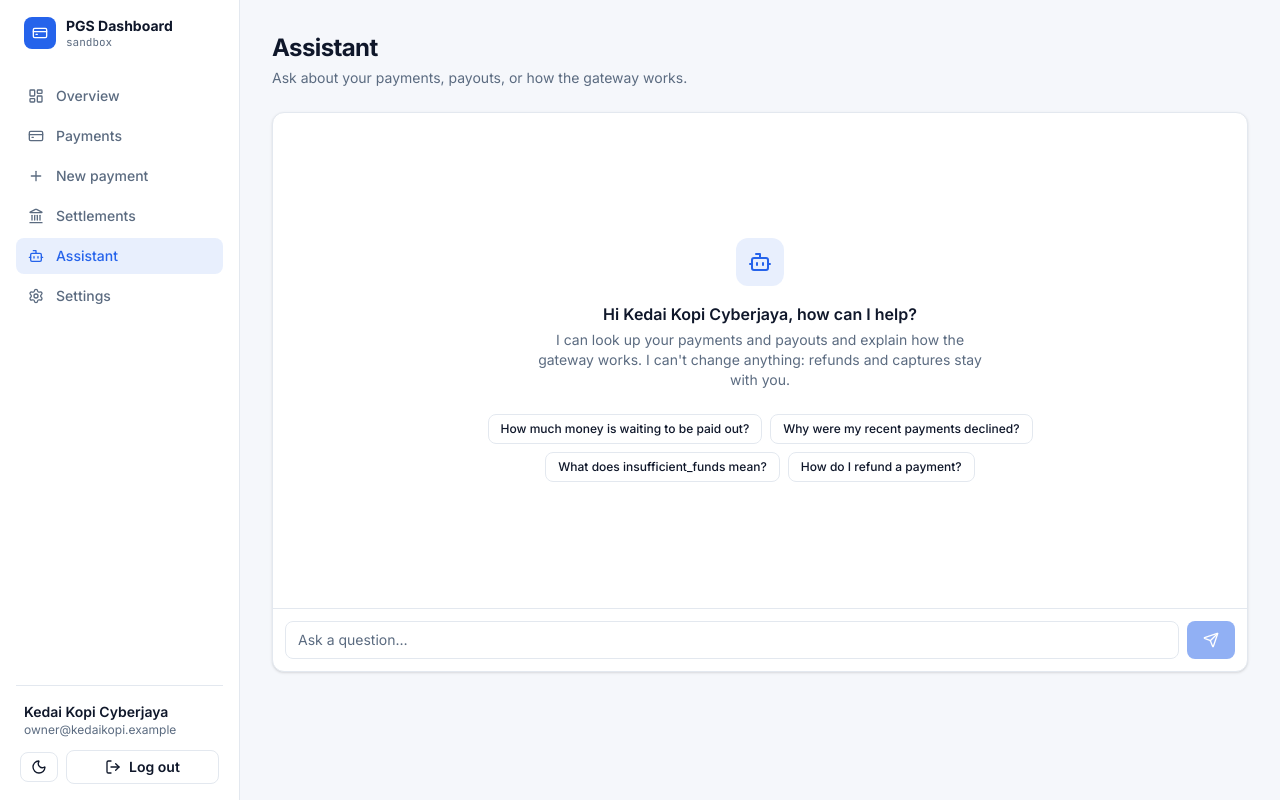
Test: assistant › answers a payout question with tools and sources
The width and height of the screenshot is (1280, 800).
Click the button "How much money is waiting to be paid out?" at (625, 428), box left=488, top=414, right=762, bottom=444
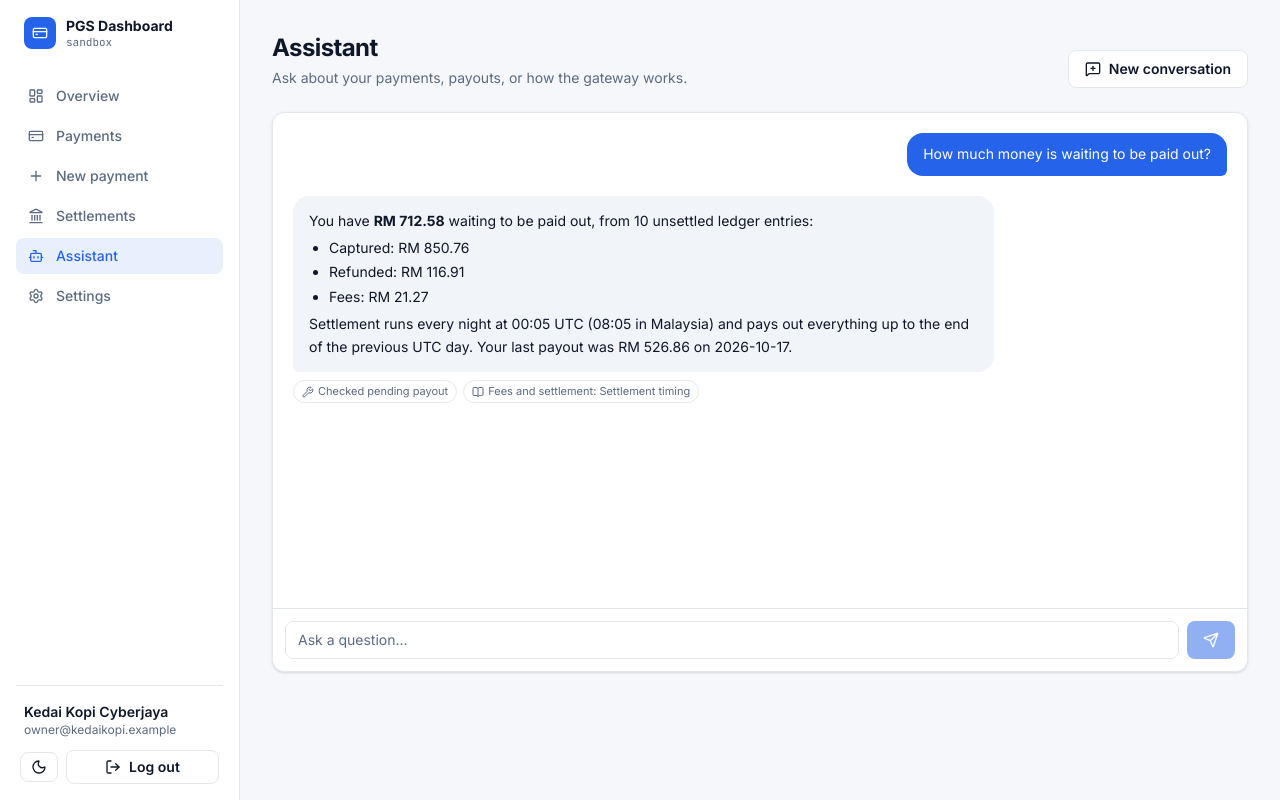
Result: the text "waiting to be paid out, from" is shown at left=445, top=212, right=813, bottom=229
Result: the text "Checked pending payout" is shown at left=293, top=380, right=457, bottom=403
Result: the text "Fees and settlement: Settlement timing" is shown at left=463, top=380, right=699, bottom=403
